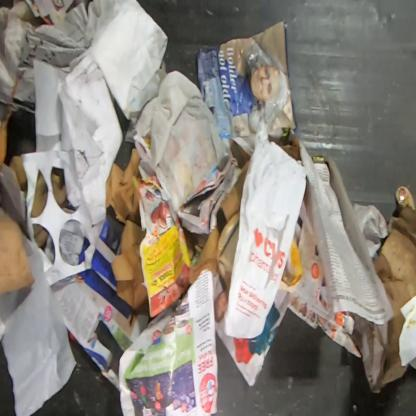cardboard: (0, 209, 36, 294), (394, 186, 416, 210)
